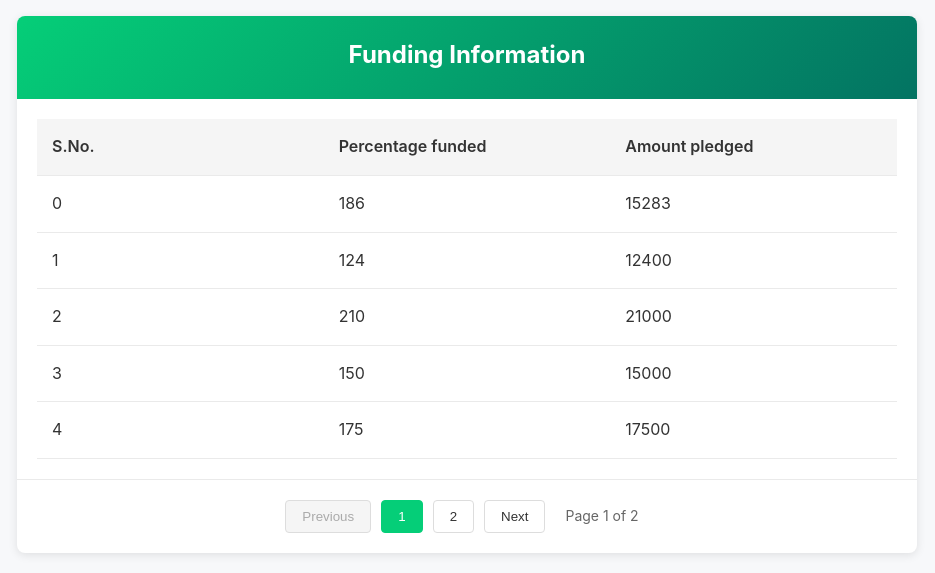
Test case: Frontend Assignment › pagination works correctly
This screenshot has width=935, height=573.
Expected: the text "Page 1 of 2" is shown, [566,505,639,528]
Expected: the button "Previous" is disabled, [285,500,371,533]
// Go to next page
Click the button "Next": x=515, y=516 [484,500,545,533]
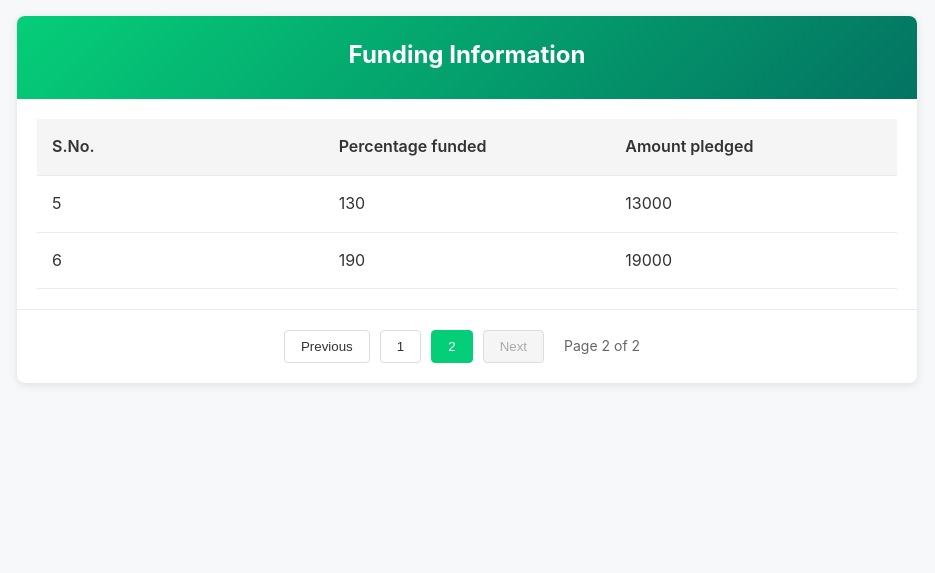
Result: the text "Page 2 of 2" is shown at [564,336,640,358]
Result: the text "190" is shown at [324,232,610,289]
Result: the text "19000" is shown at [610,232,897,289]
// Go back to previous page
Click the button "Previous": x=327, y=347 [284,330,370,363]
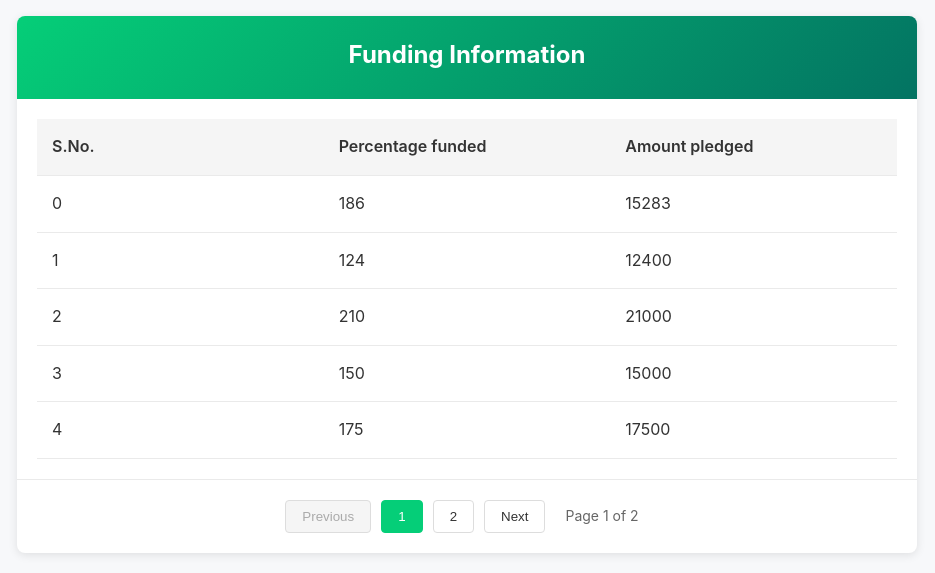
Result: the text "Page 1 of 2" is shown at [566,505,639,528]
